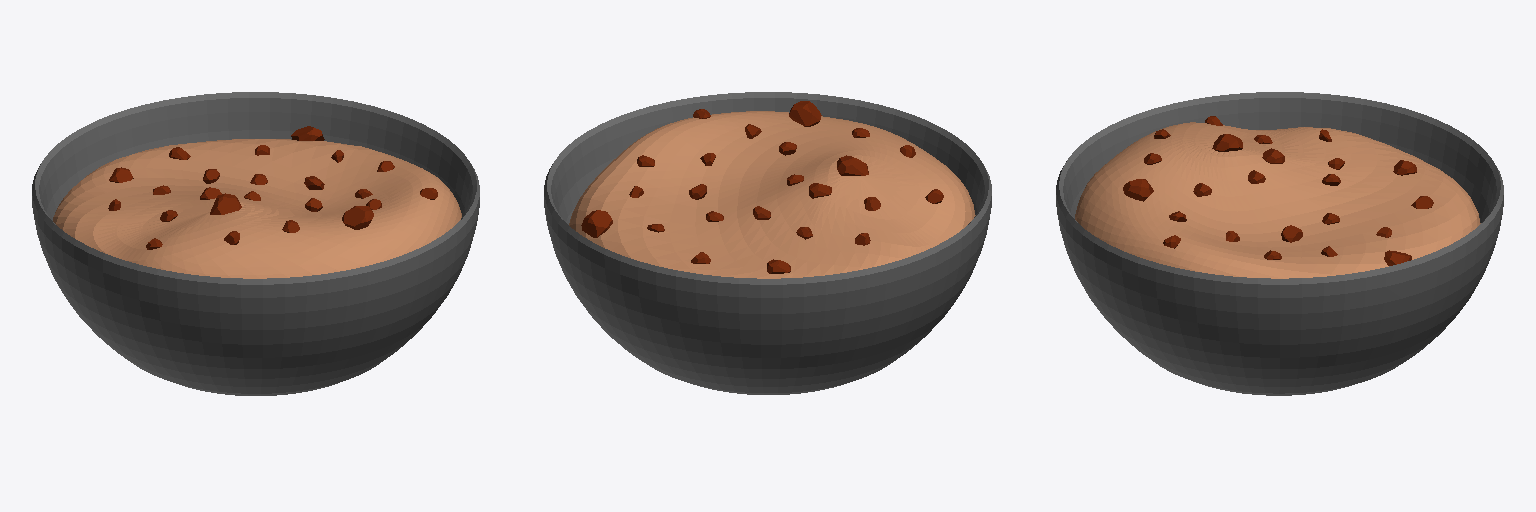
The model's file is doughbowl.obj.
3 renders of one model, left to right at view 1: azimuth 30°, elevation 25°; view 2: azimuth 150°, elevation 25°; view 3: azimuth 270°, elevation 25°, orthographic.
Visible parts, largest first — view 1: Sphere.002, Sphere.003, Cube.040; view 2: Sphere.002, Sphere.003, Cube.040, Cube.041; view 3: Sphere.002, Sphere.003.
Boxes of the visible parts, x1=… form: Sphere.002: x1=32, y1=92, x2=479, y2=395; Sphere.003: x1=53, y1=139, x2=461, y2=278; Cube.040: x1=342, y1=206, x2=373, y2=229; Sphere.002: x1=544, y1=92, x2=991, y2=394; Sphere.003: x1=569, y1=111, x2=975, y2=278; Cube.040: x1=789, y1=101, x2=821, y2=126; Cube.041: x1=581, y1=210, x2=612, y2=237; Sphere.002: x1=1056, y1=92, x2=1503, y2=395; Sphere.003: x1=1075, y1=122, x2=1480, y2=278.
Size of the model in its own units: 0.2269 by 0.1041 by 0.2269.